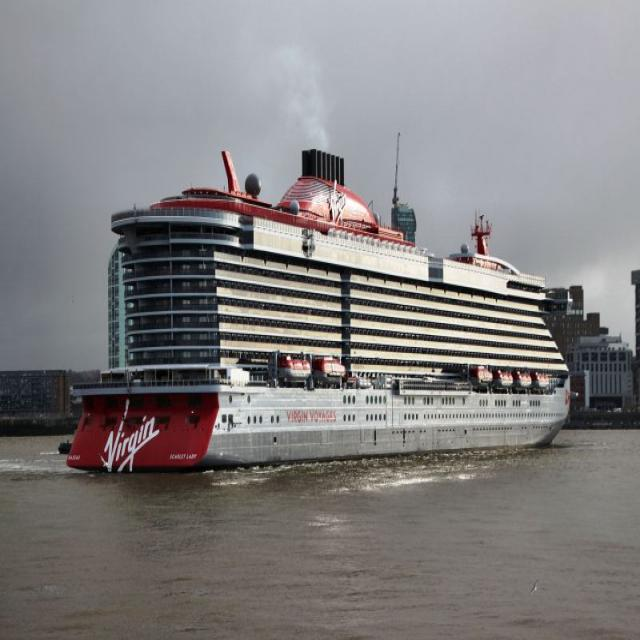cruises: (60, 140, 578, 484)
